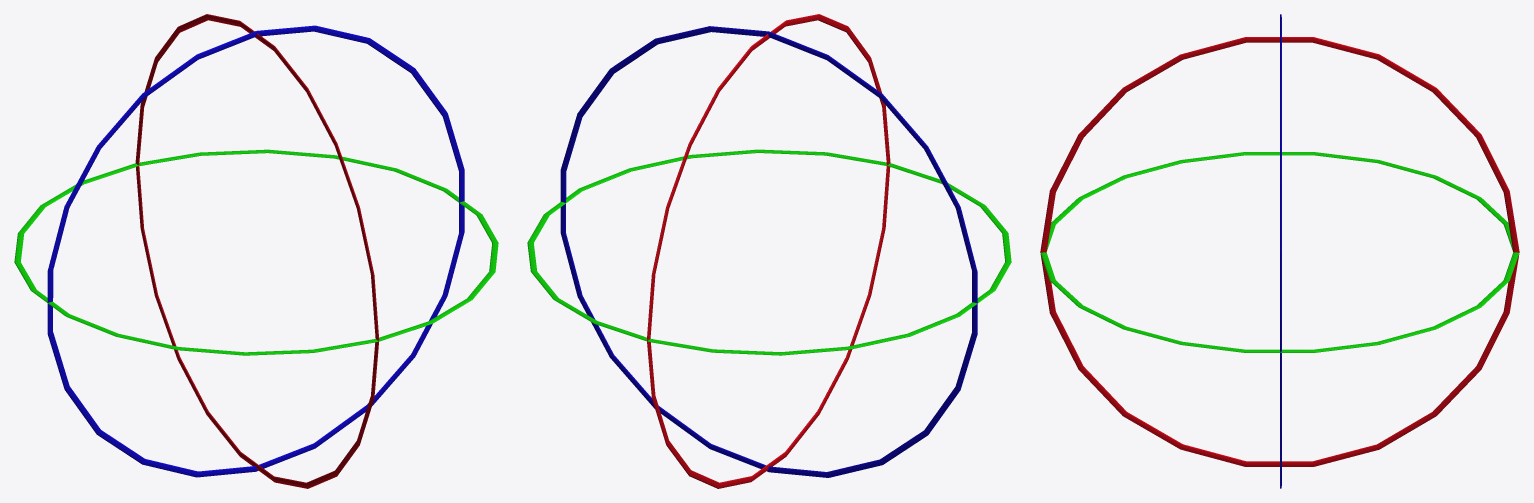
Rendered from Transform_rotate_handle.fbx.
The picture shows the model from 3 angles, left to right: view 1: azimuth 30°, elevation 25°; view 2: azimuth 150°, elevation 25°; view 3: azimuth 270°, elevation 25°; orthographic projection.
Parts seen in each view (by area): view 1: Circle.001; view 2: Circle.001; view 3: Circle.001.
Part boxes in pixels (x1,y1,x2,y2): Circle.001: (14,14,498,488); Circle.001: (527,14,1011,488); Circle.001: (1040,14,1519,488).
Size of the model in its own units: 1014 by 1024 by 1024.
